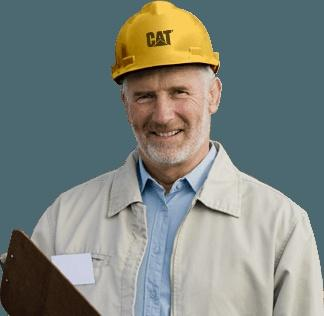helmet: (109, 2, 221, 77)
